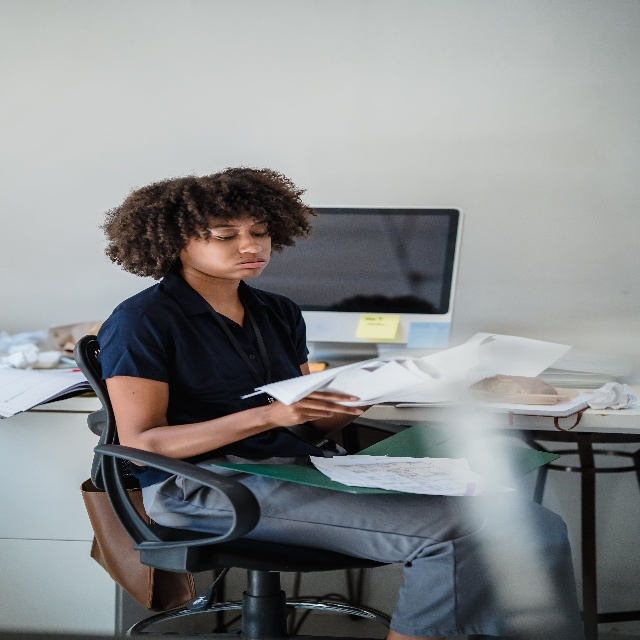Sin_guantes: (270, 388, 365, 427)
